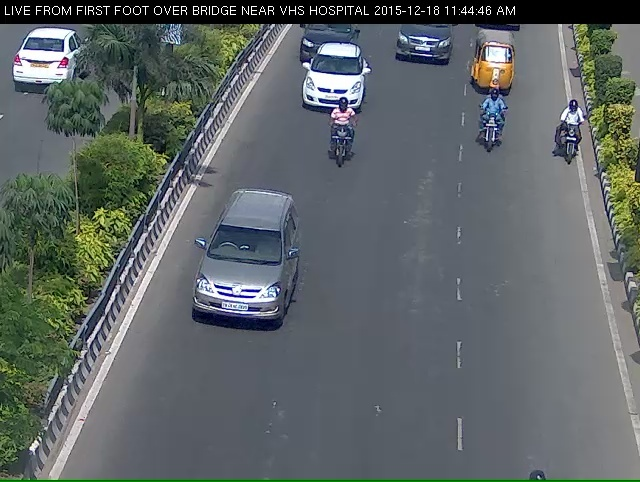Auto: (469, 29, 519, 105)
Car: (183, 213, 293, 362), (296, 53, 368, 126), (386, 22, 459, 77), (283, 22, 364, 71), (281, 24, 363, 70)
Person: (551, 103, 587, 178), (319, 117, 360, 180), (472, 100, 507, 167)
